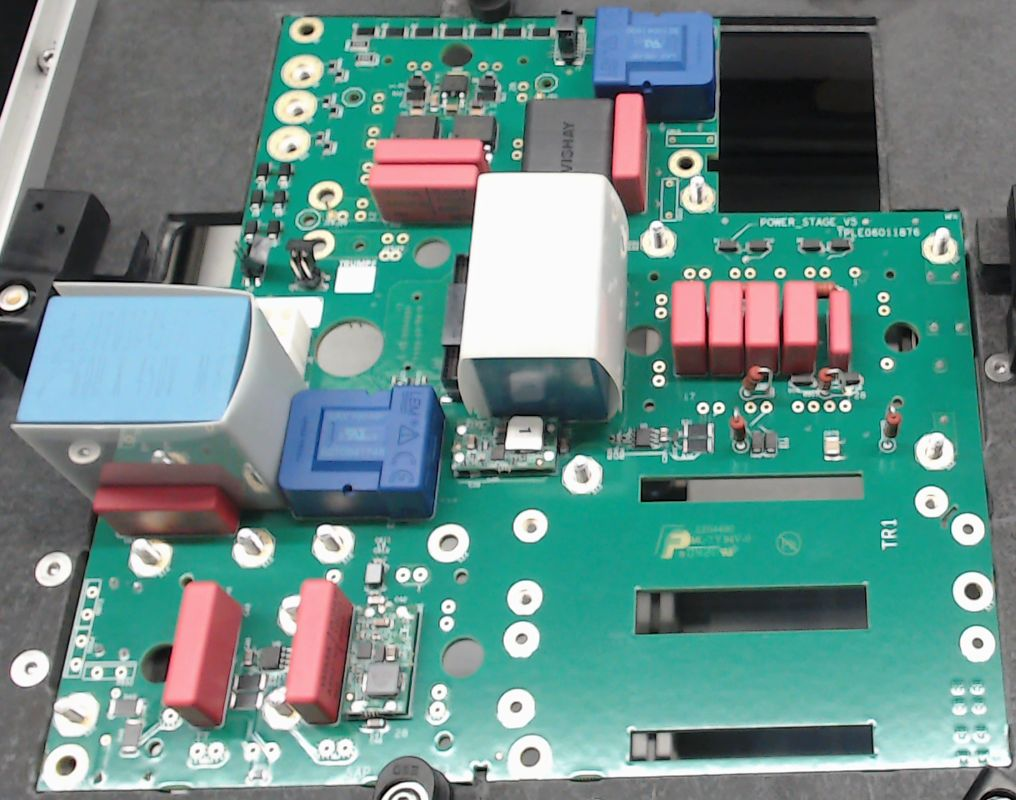comp1: (280, 385, 444, 518), (596, 7, 714, 119)
comp2: (163, 582, 244, 727), (285, 579, 353, 723), (91, 485, 237, 536), (368, 163, 481, 223), (610, 92, 648, 214), (708, 279, 744, 378), (782, 276, 816, 376), (744, 278, 779, 371), (672, 280, 705, 376), (373, 139, 484, 163), (828, 289, 852, 373)
comp3: (521, 97, 615, 176)
comp4: (15, 281, 306, 511), (458, 172, 626, 422)
